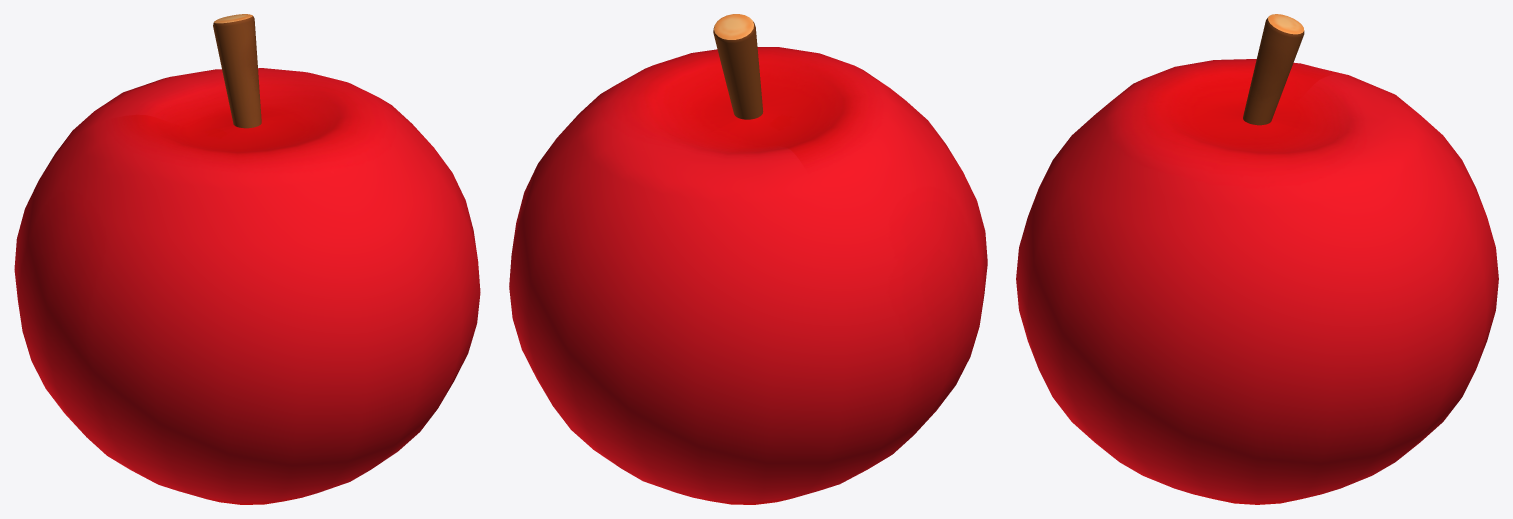
File: apple_01.fbx
3 views of the same model, side by side, from view 1: azimuth 30°, elevation 25°; view 2: azimuth 150°, elevation 25°; view 3: azimuth 270°, elevation 25° (orthographic). The views are drawn at different scales.
Parts seen in each view (by area): view 1: ap_3:pSphere1; view 2: ap_3:pSphere1; view 3: ap_3:pSphere1.
Part boxes in pixels (<box>): ap_3:pSphere1: <box>14,14,480,504</box>; ap_3:pSphere1: <box>509,14,987,504</box>; ap_3:pSphere1: <box>1016,14,1498,504</box>.
Size of the model in its own units: 132 by 141 by 135.
